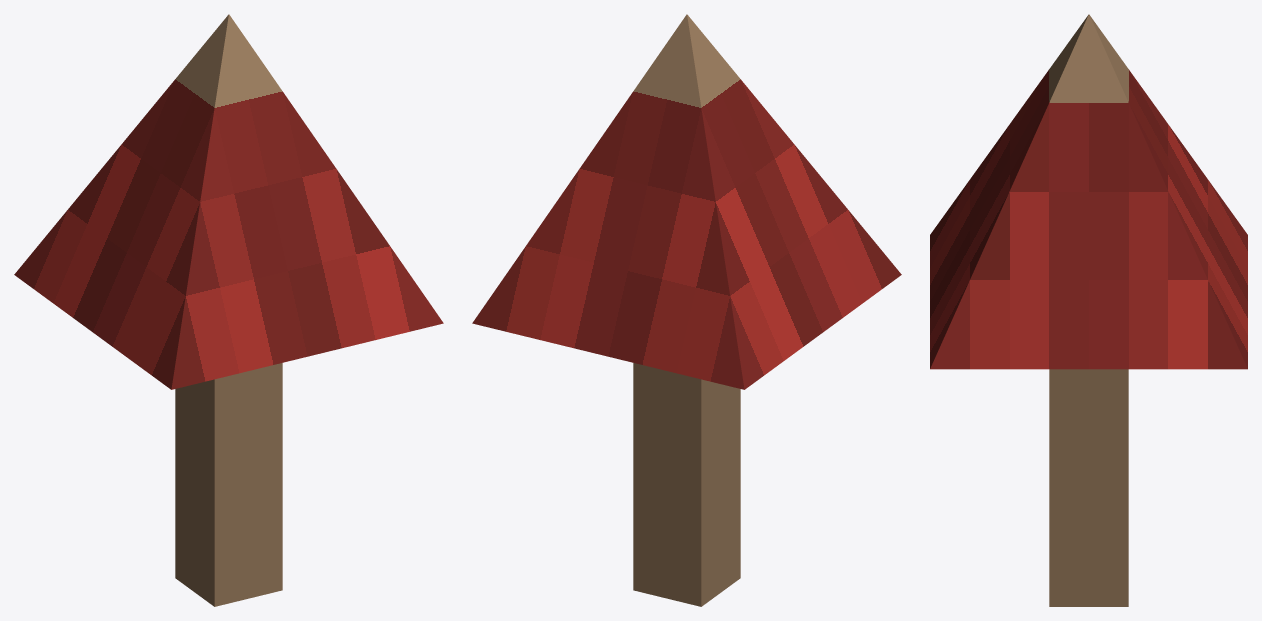
File: red_umbrella_close_3d.obj
3 renders of one model, left to right at view 1: azimuth 30°, elevation 25°; view 2: azimuth 150°, elevation 25°; view 3: azimuth 270°, elevation 25°, orthographic.
Visible parts, largest first — view 1: Cube; view 2: Cube; view 3: Cube.
Boxes of the visible parts, x1,y1,x2,y2 form: Cube: [14, 14, 443, 606]; Cube: [472, 14, 901, 606]; Cube: [930, 14, 1247, 606].
Size of the model in its own units: 0.5 by 1 by 0.5.
